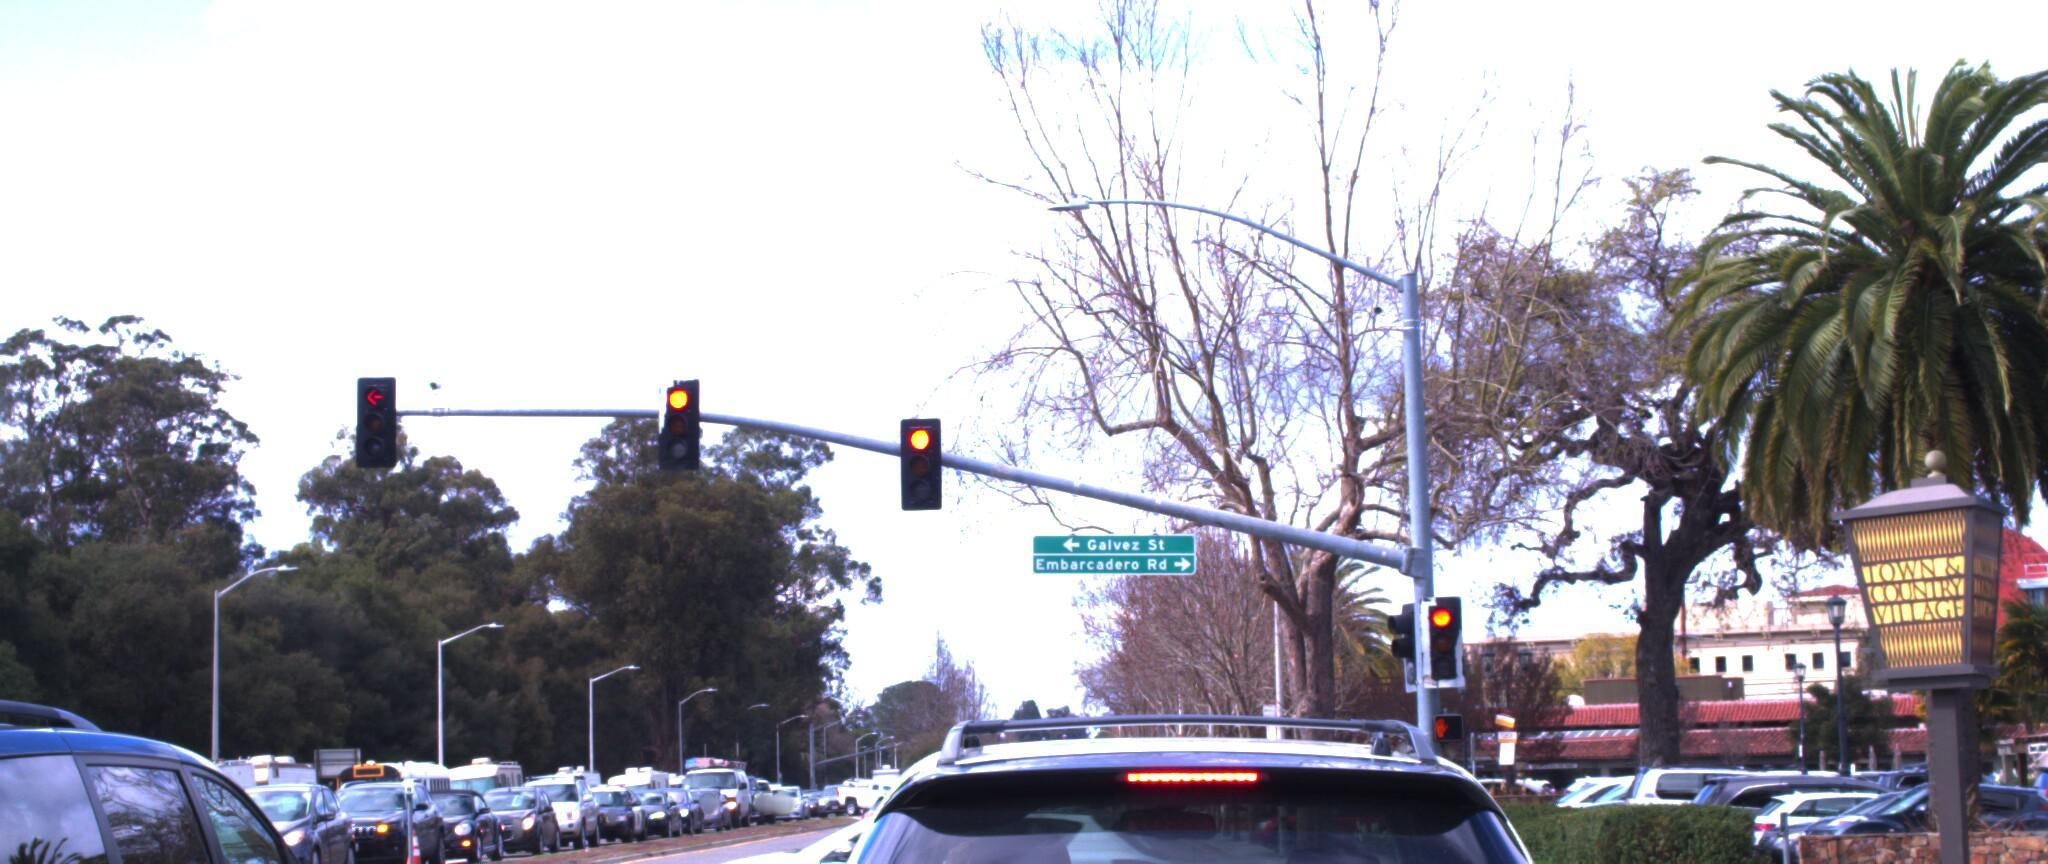car: (675, 671, 1735, 864), (0, 673, 445, 864), (637, 760, 1194, 864), (1674, 750, 1981, 855), (1733, 764, 2048, 864), (1799, 756, 2048, 864), (191, 761, 371, 864), (296, 762, 456, 856), (511, 747, 620, 824)
other_vehicle: (0, 700, 98, 854)
